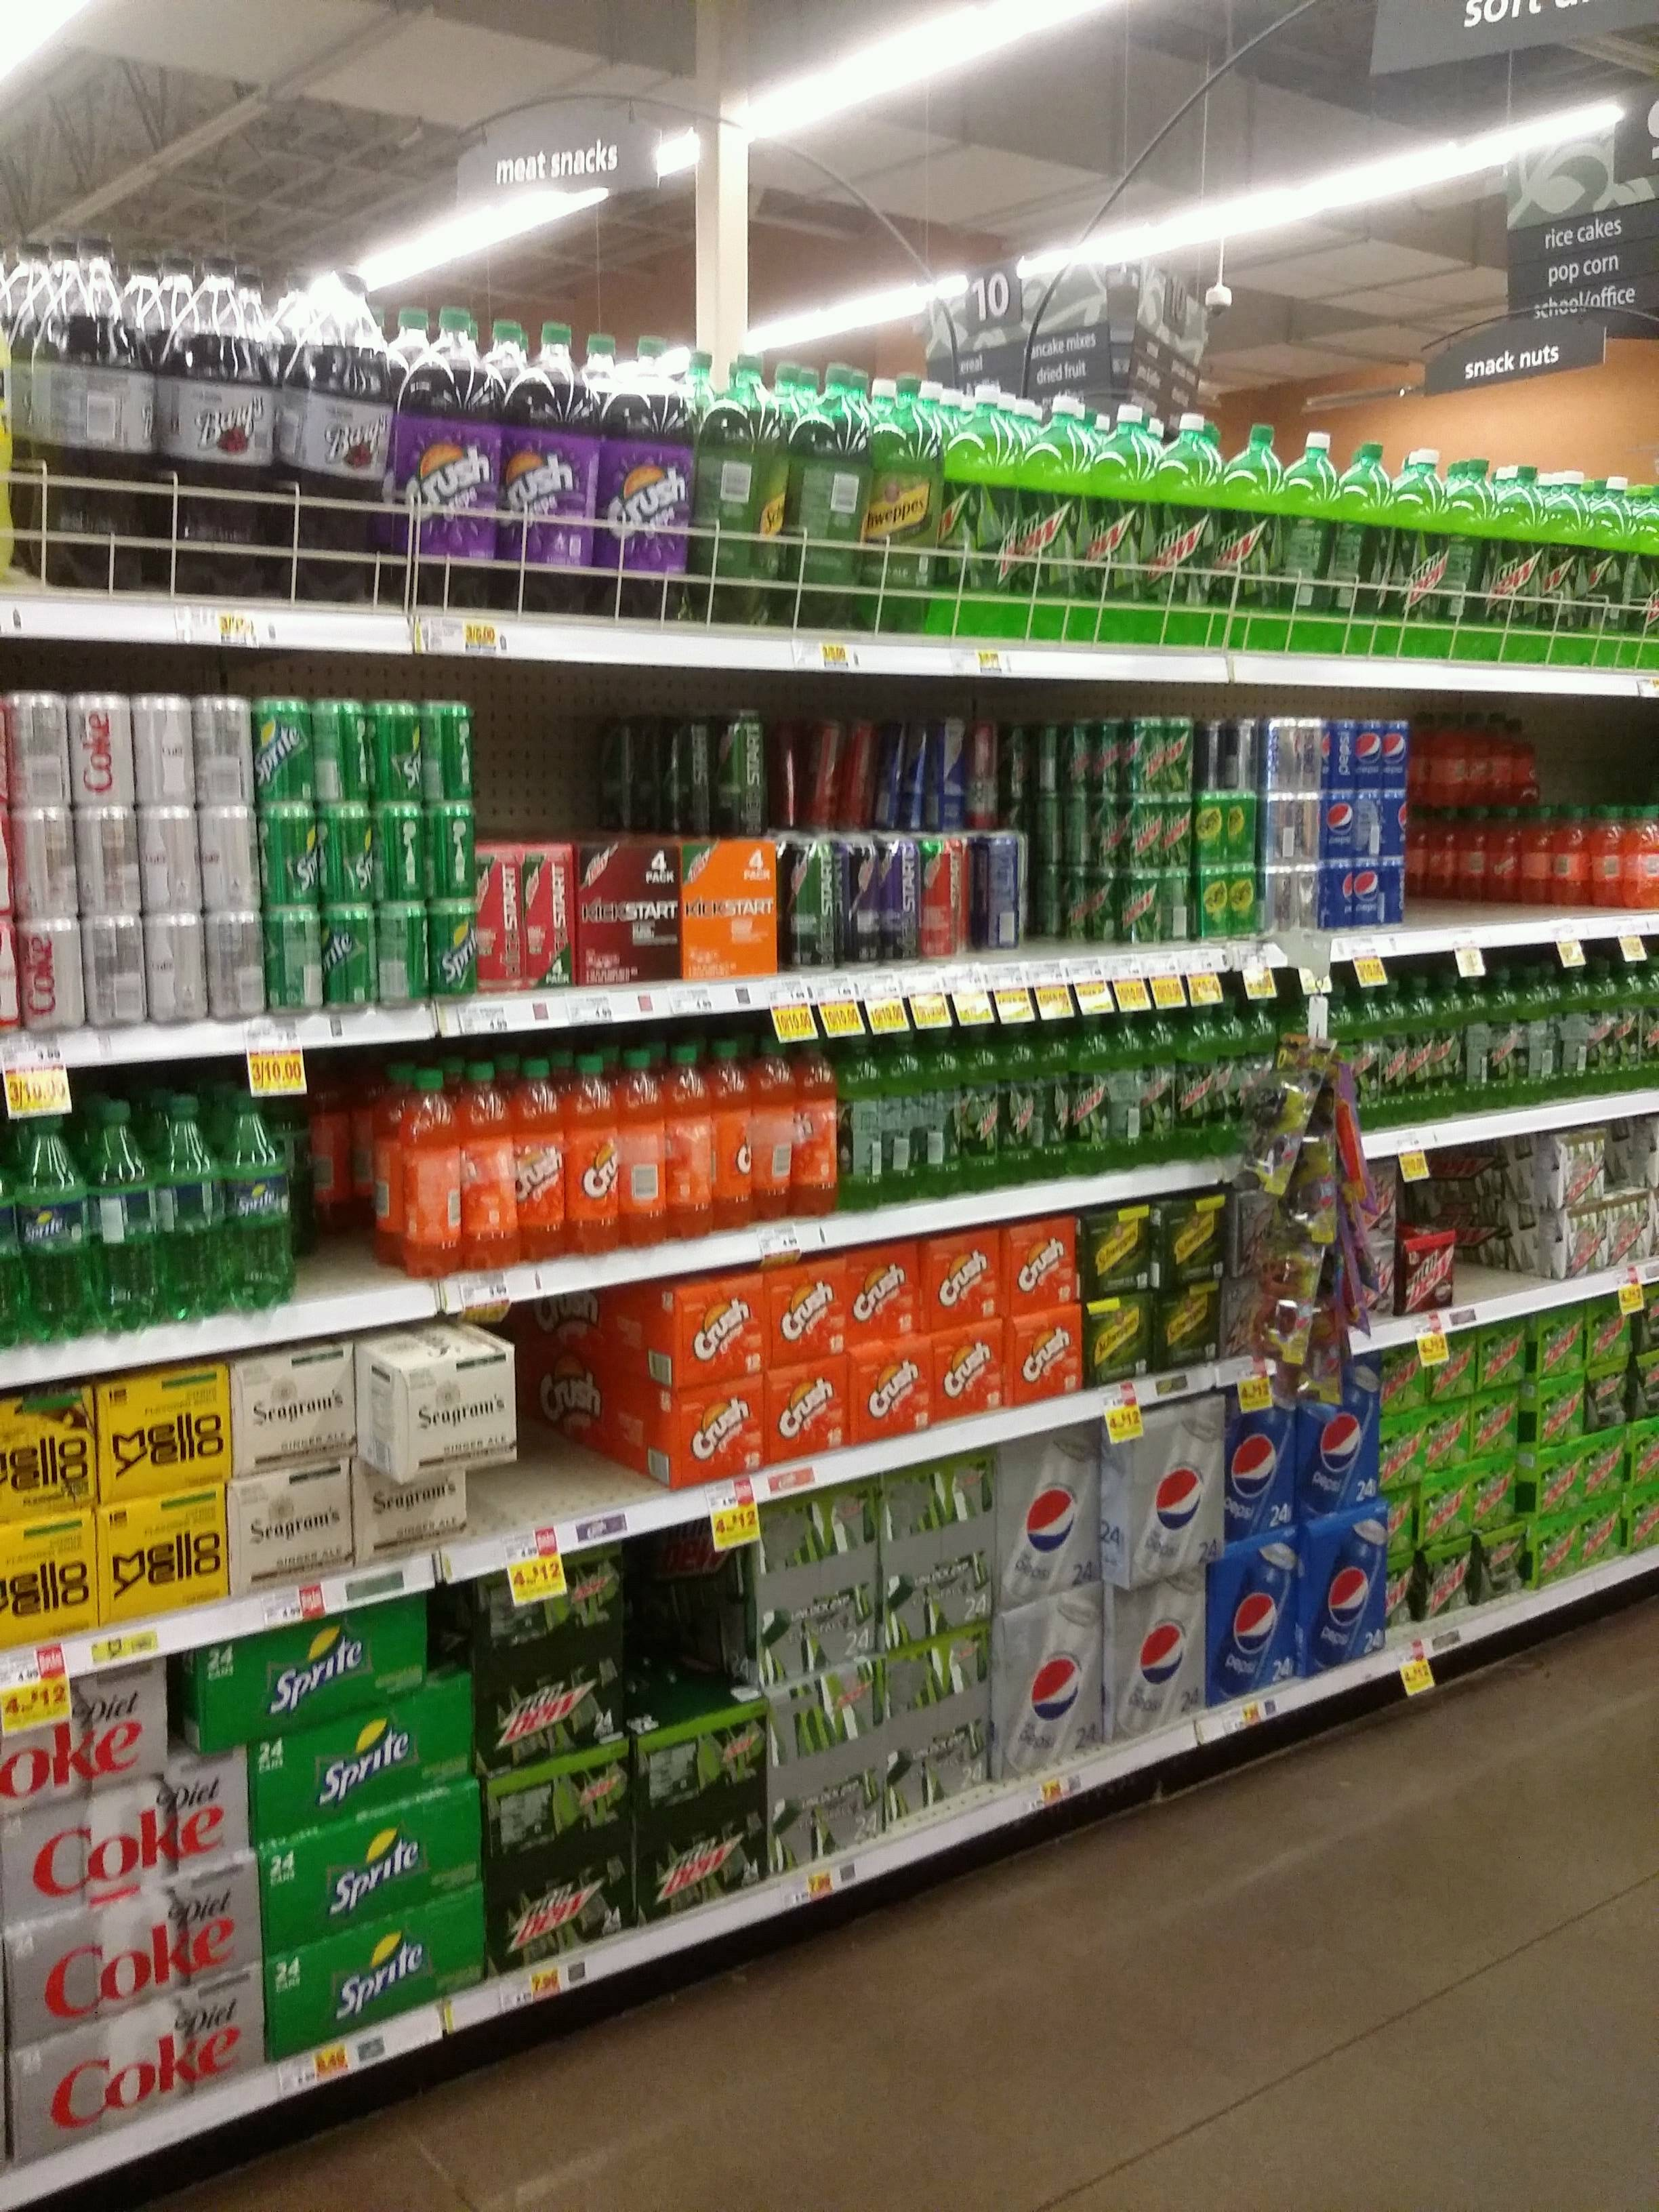Misplacement: (758, 718, 1046, 991), (289, 1045, 418, 1320)
Out-of-stock: (1412, 712, 1643, 942), (521, 1282, 674, 1559), (1459, 1132, 1568, 1313)
